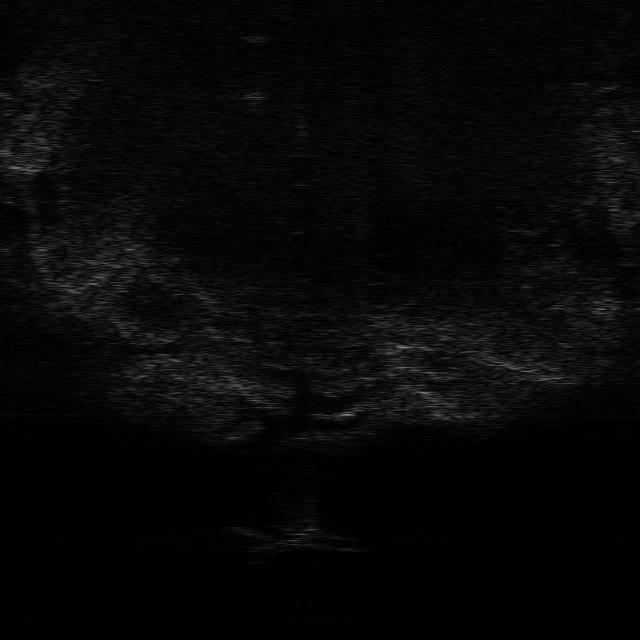plane: (230, 524, 366, 556)
